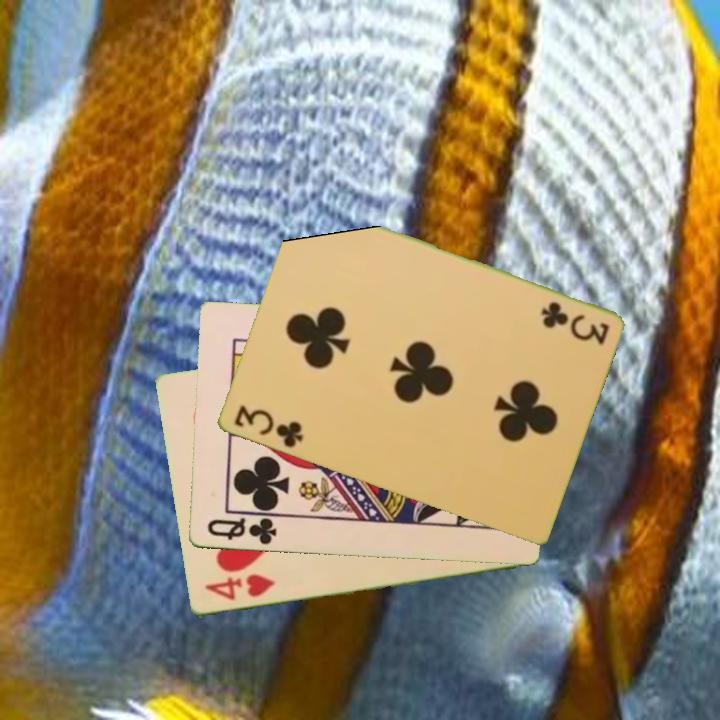3c: (230, 402, 306, 452), (537, 298, 611, 346)
4h: (201, 571, 278, 604)
Qc: (203, 514, 279, 548)
